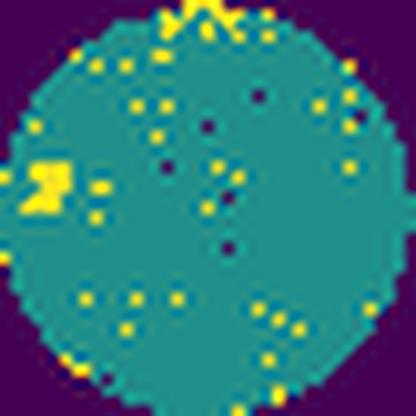Loc: (16, 157, 78, 216)
